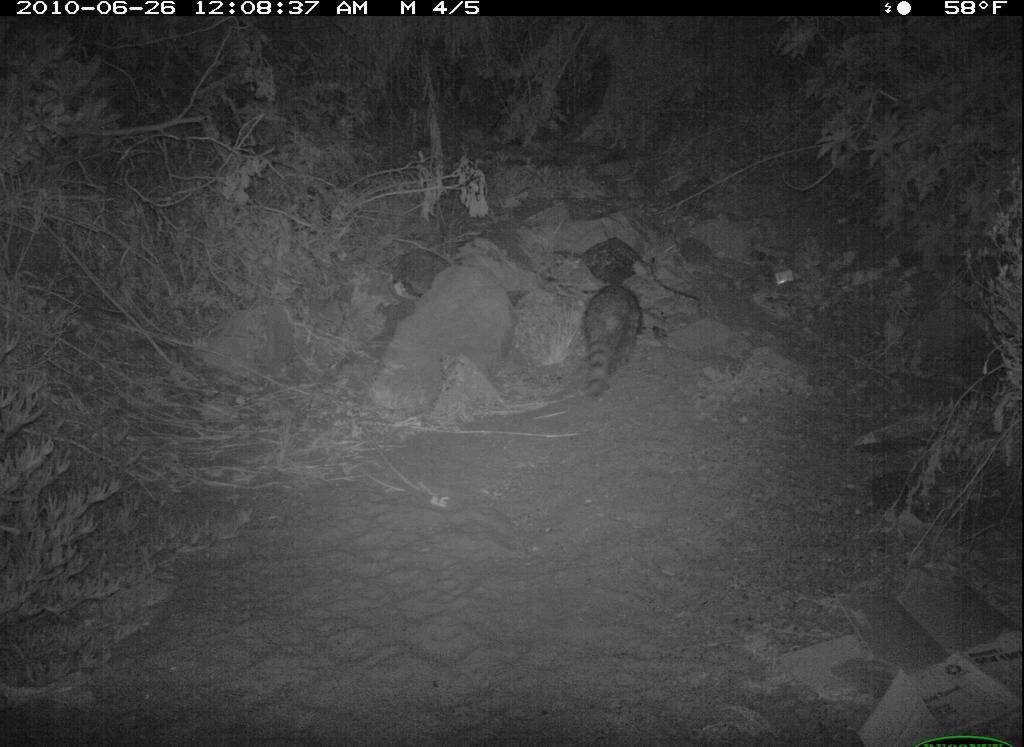raccoon: (566, 267, 661, 401)
